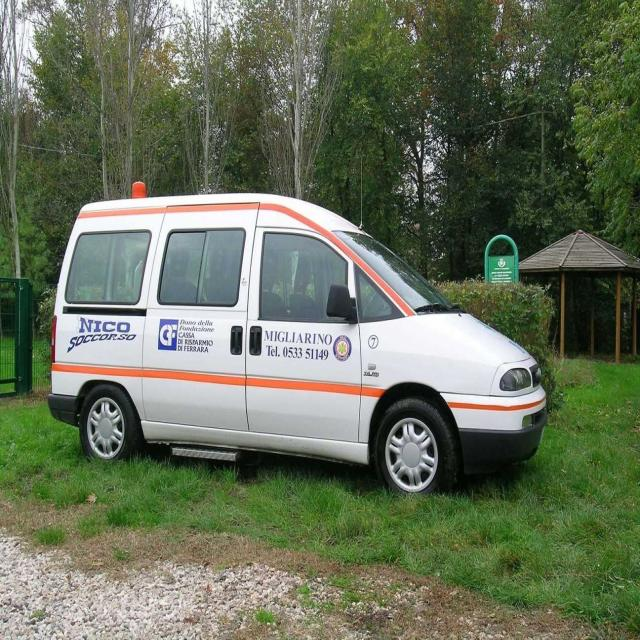ambulance: (39, 166, 547, 533)
